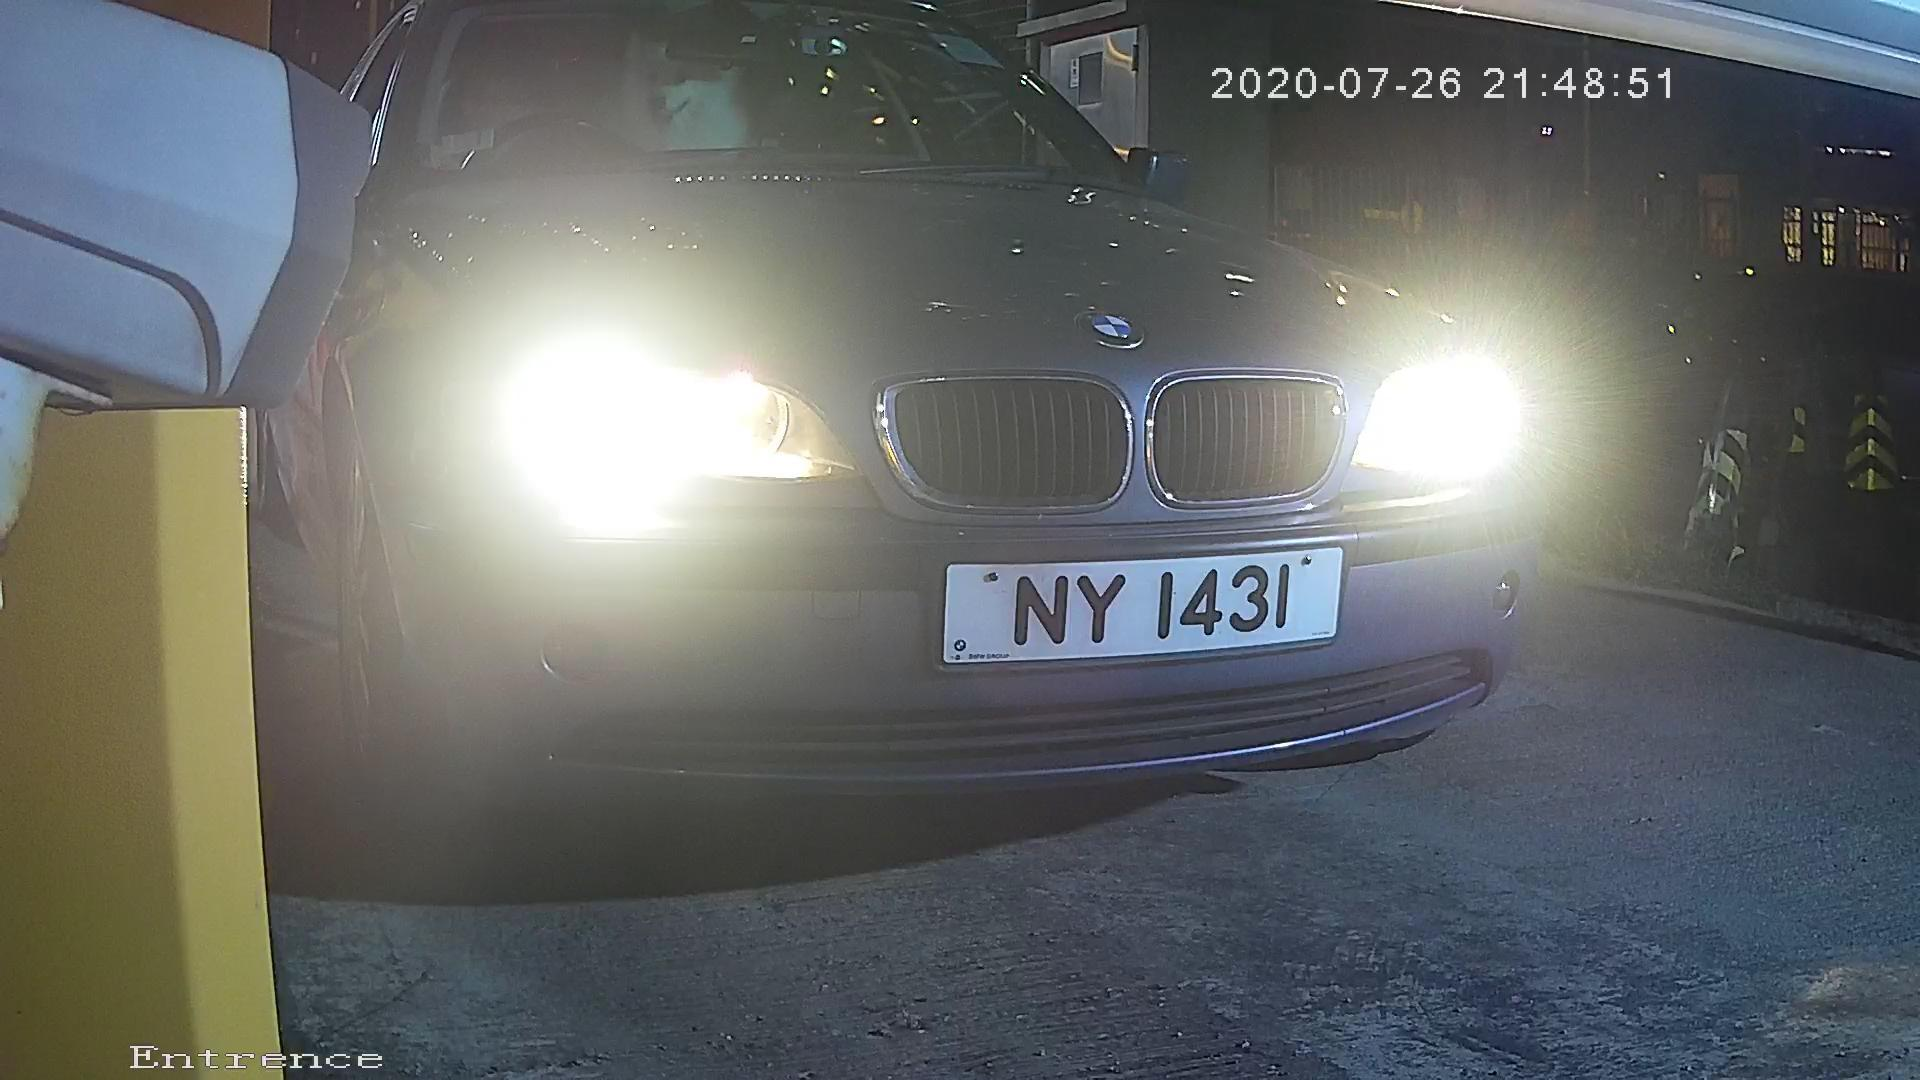License Plate: (900, 531, 1363, 671)
